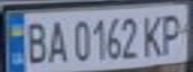0: (69, 16, 90, 63)
1: (90, 15, 109, 61)
2: (121, 12, 142, 60)
6: (106, 14, 124, 61)
A: (42, 17, 69, 64)
B: (21, 17, 51, 65)
K: (139, 11, 169, 57)
P: (157, 9, 190, 55)
